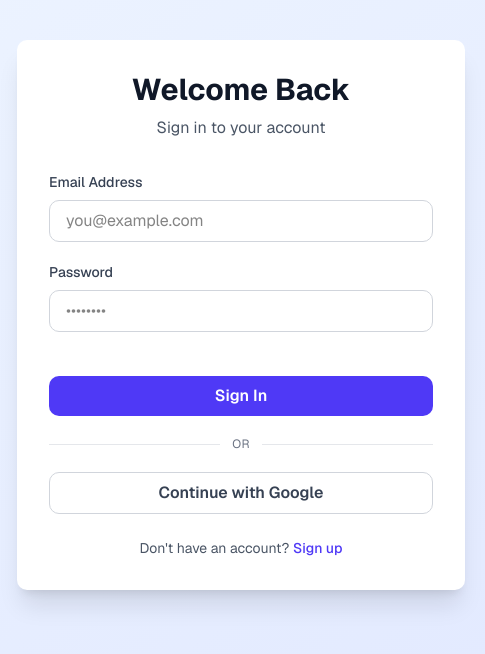
Test: Login Component › Form Validation › clears error message when user starts typing
# Submit form to show errors
Click the button with test id "submit-button": (241, 396) [49,376,433,416]
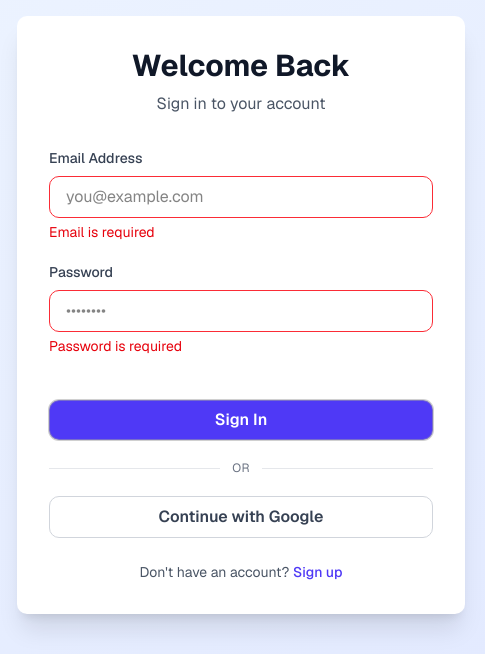
Expected: the text "Email is required" is shown, [49,223,155,241]
# Start typing to clear error
In the field with test id "email-input": (241, 197) [49,176,433,218], type "test@example.com"
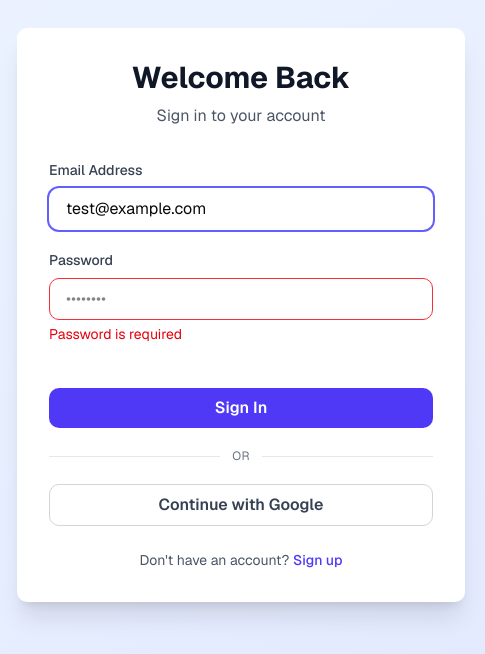
Expected: the text with test id "email-error" is gone
